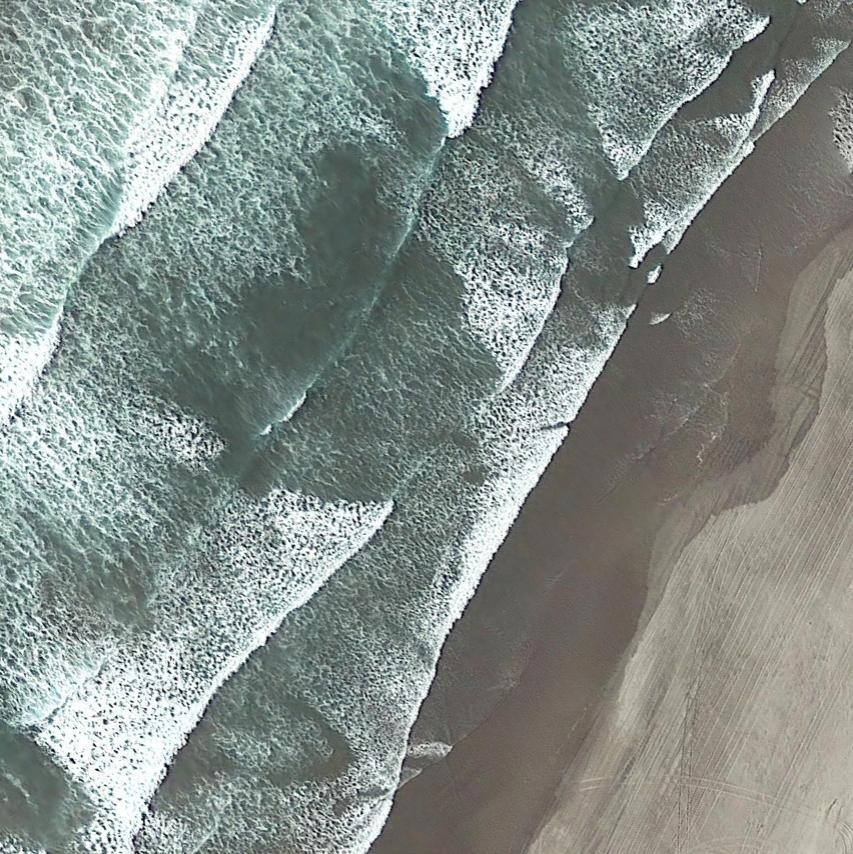rip_current: (154, 194, 570, 571)
